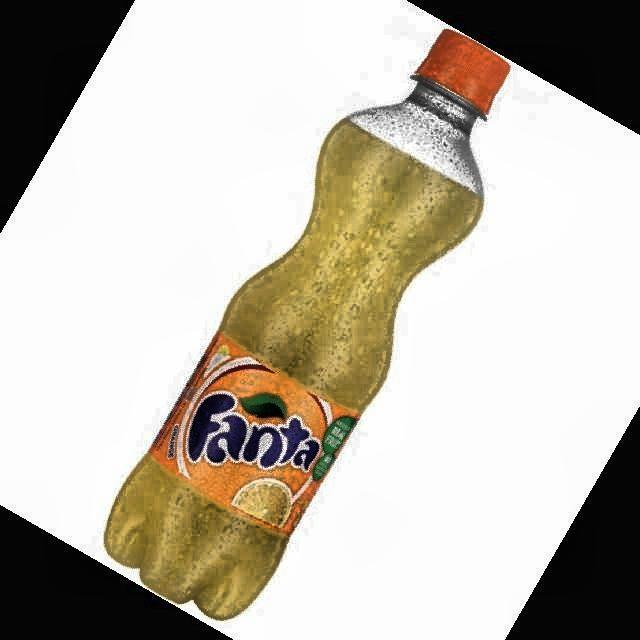plastic: (105, 30, 509, 619)
